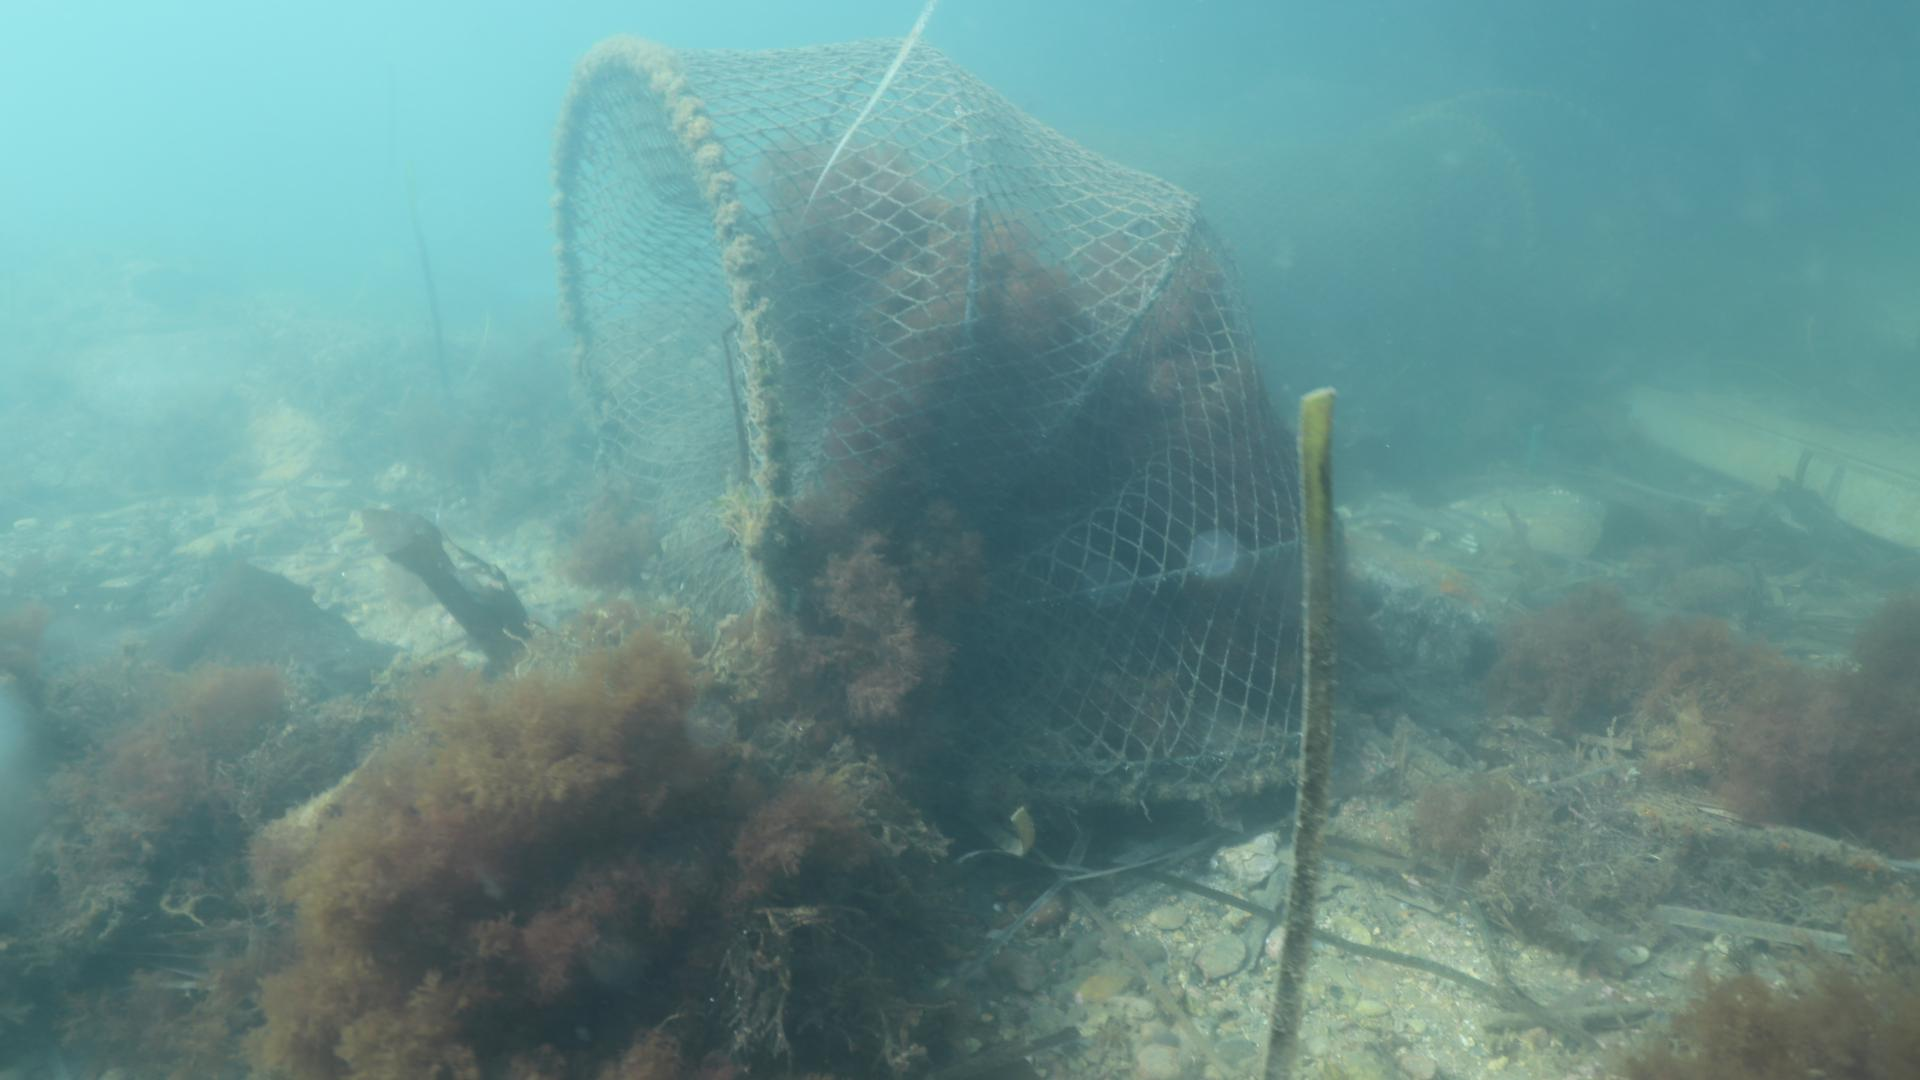spring fish trap: (554, 29, 1360, 825)
